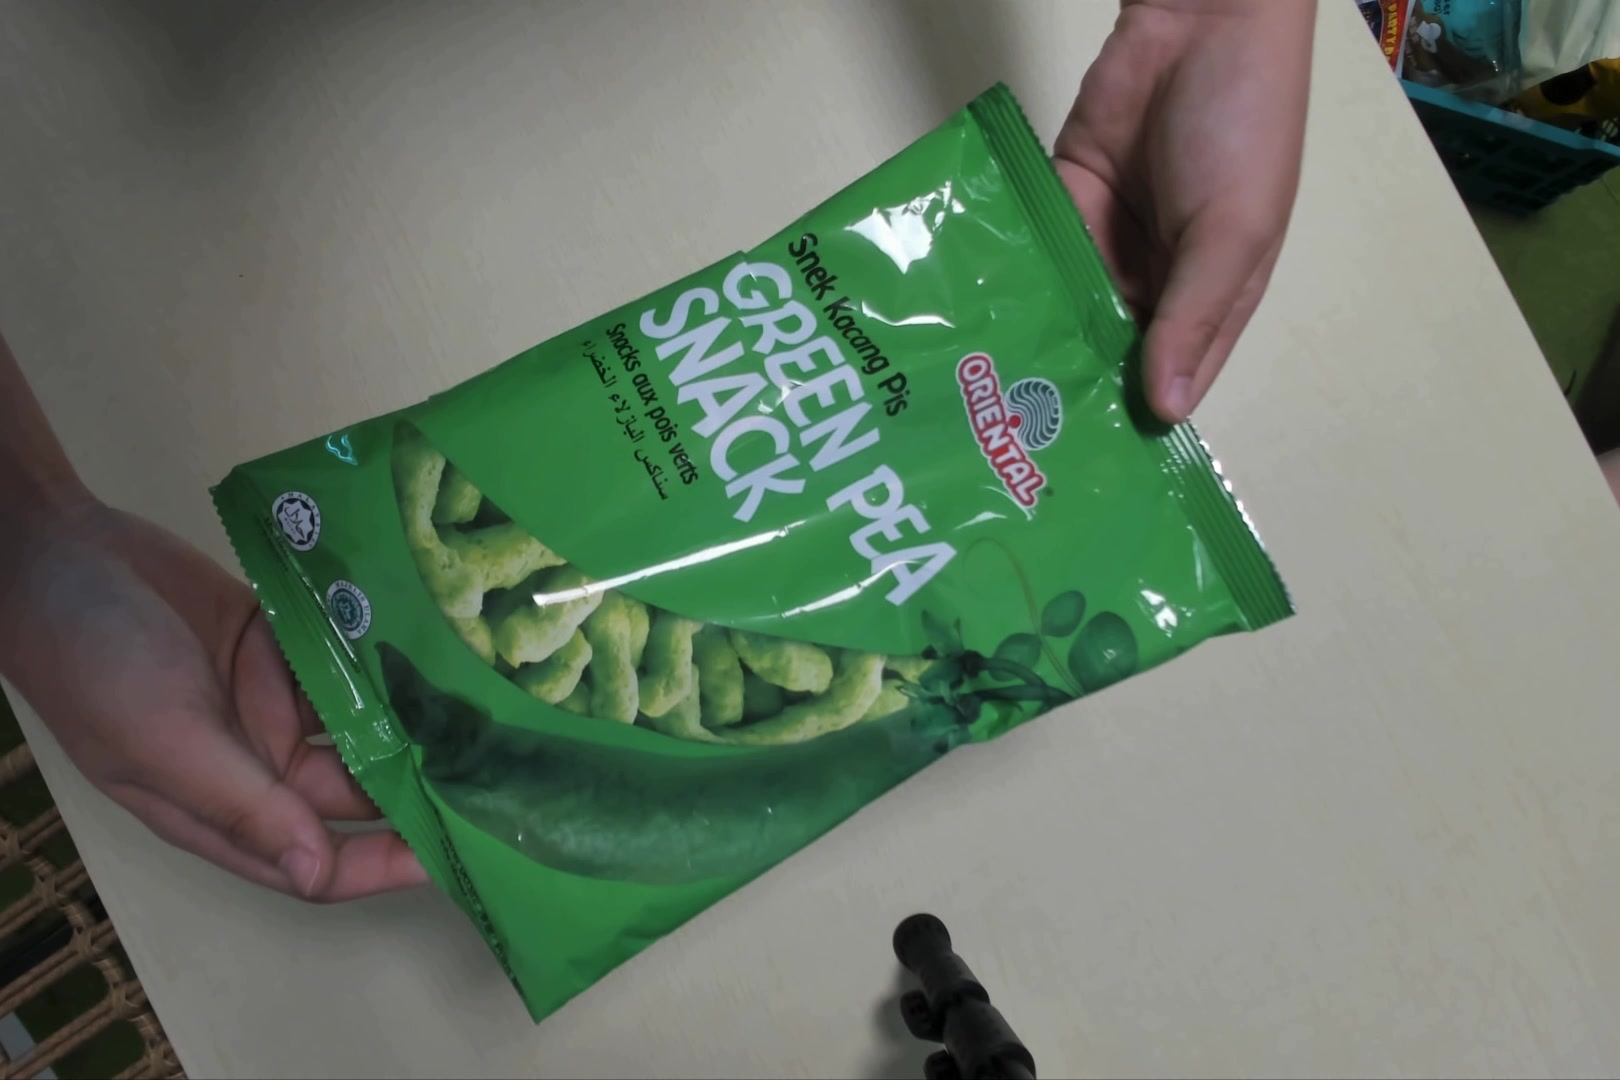Nuts_100-199g_Halal_NonHealthy: (196, 81, 1291, 1037)
